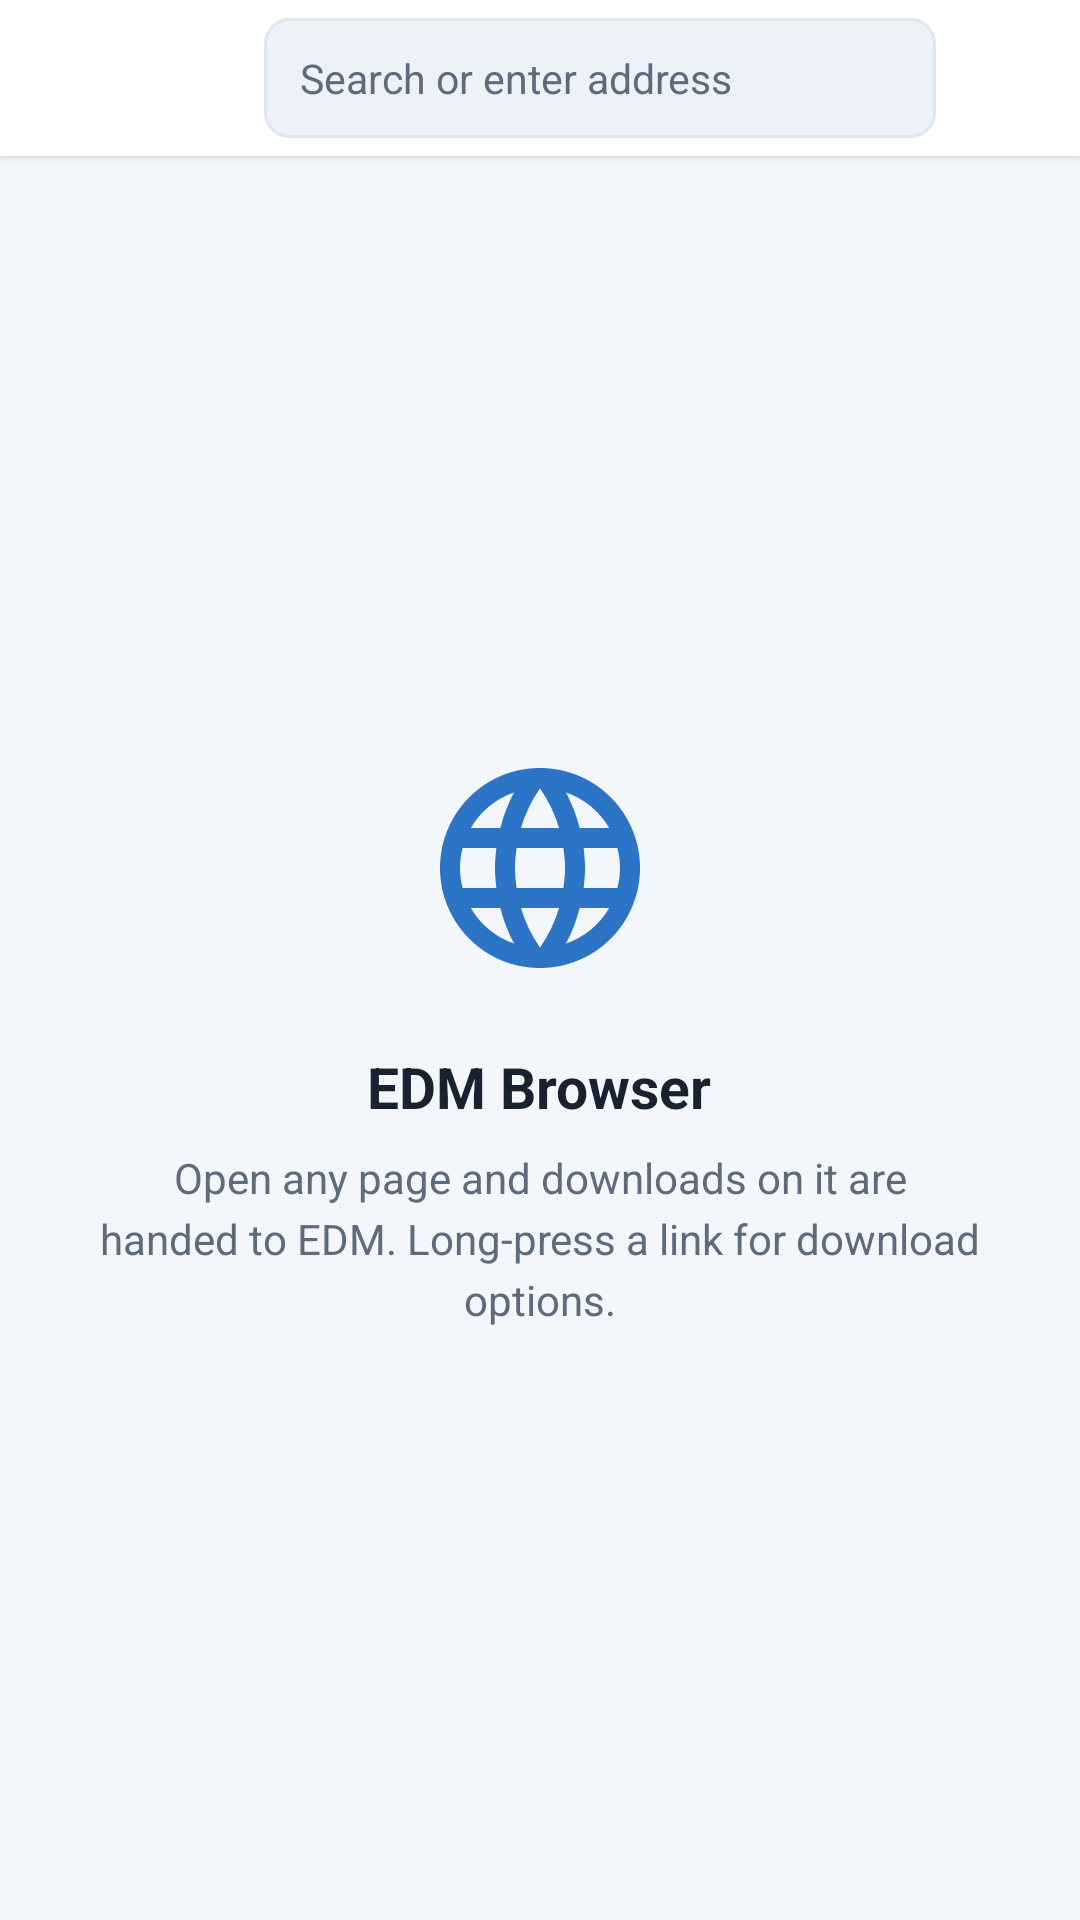

Where icons sit on this 1080*1920 app screen, as (x1, y1, x2, y2):
globe: (440, 768, 640, 968)
